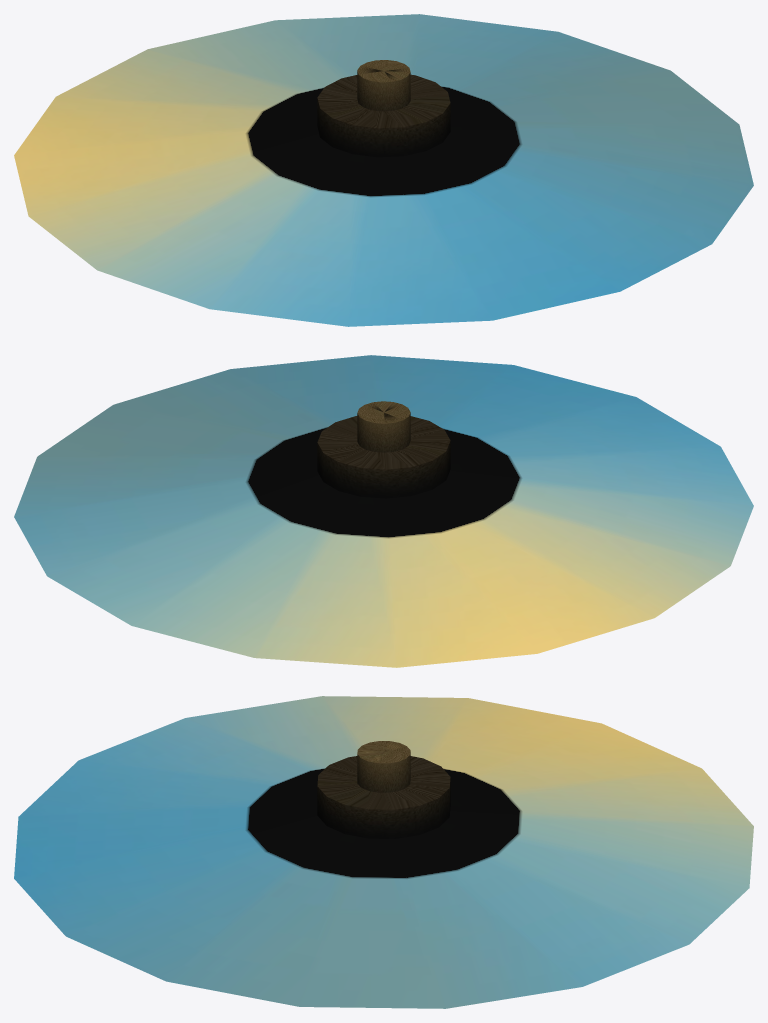
The model's file is ufo.glb.
3 views of the same model, one above another, from view 1: azimuth 30°, elevation 25°; view 2: azimuth 150°, elevation 25°; view 3: azimuth 270°, elevation 25° (orthographic).
Visible parts, largest first — view 1: ufo; view 2: ufo; view 3: ufo.
Boxes of the visible parts, x1,y1,x2,y2 form: ufo: (14, 14, 753, 326); ufo: (14, 355, 753, 667); ufo: (14, 696, 753, 1008).
Size of the model in its own units: 36.96 by 10.38 by 36.96.
Materials: 1 (1 with a texture image).
